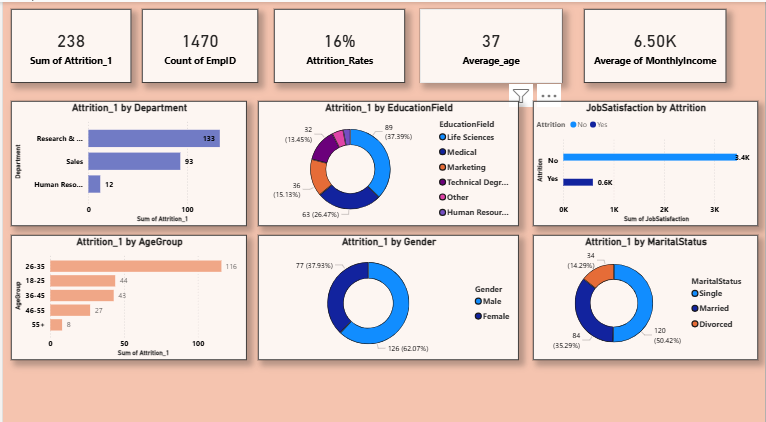

Layout of this report page (visuals, bound fields, positions):
{"tool":"powerbi","page":{"name":"Attrition Dashboard","canvas":[1280,720],"ordinal":0},"visuals":[{"type":"card","fields":{"Values":["Sum(HR_Analytics.Attrition_1)"]},"box":[13.4,11.8,201.6,124.3],"z":0},{"type":"card","fields":{"Values":["Count(HR_Analytics.EmpID)"]},"box":[233.5,11.8,194.9,124.3],"z":1000},{"type":"card","fields":{"Values":["HR_Analytics.Attrition_Rates"]},"box":[455.2,11.8,210,124.3],"z":2000},{"type":"card","fields":{"Values":["HR_Analytics.Average_age"]},"box":[680.3,11.8,210,124.3],"z":3000},{"type":"card","fields":{"Values":["Avg(HR_Analytics.MonthlyIncome)"]},"box":[913.8,11.8,203.3,124.3],"z":4000},{"type":"barChart","title":" Attrition_1 by Department","fields":{"Y":["Sum(HR_Analytics.Attrition_1)"],"Category":["HR_Analytics.Department"]},"box":[13.4,166.3,396.4,210],"z":5000},{"type":"barChart","title":"Attrition_1 by AgeGroup","fields":{"Y":["Sum(HR_Analytics.Attrition_1)"],"Category":["HR_Analytics.AgeGroup"]},"box":[13.4,391.4,396.4,210],"z":6000},{"type":"donutChart","title":" Attrition_1 by EducationField","fields":{"Y":["Sum(HR_Analytics.Attrition_1)"],"Category":["HR_Analytics.EducationField"]},"box":[428.3,166.3,438.4,210],"z":7000},{"type":"donutChart","title":" Attrition_1 by Gender","fields":{"Y":["Sum(HR_Analytics.Attrition_1)"],"Category":["HR_Analytics.Gender"]},"box":[428.3,391.4,438.4,210],"z":8000},{"type":"clusteredBarChart","title":"JobSatisfaction by Attrition","fields":{"Y":["Sum(HR_Analytics.JobSatisfaction)"],"Category":["HR_Analytics.Attrition"],"Series":["HR_Analytics.Attrition"]},"box":[890.3,166.3,378,210],"z":9000},{"type":"donutChart","title":"Attrition_1 by MaritalStatus","fields":{"Category":["HR_Analytics.MaritalStatus"],"Y":["Sum(HR_Analytics.Attrition_1)"]},"box":[890,391,378,210],"z":10000}]}

Visuals, with their boxes in screenshot pixels (x1, y1, x2, y2), scaled from the page's 1280x720 canvas onto the 766x422 screenshot:
card - Sum(HR_Analytics.Attrition_1): (left=8, top=7, right=129, bottom=80)
card - Count(HR_Analytics.EmpID): (left=140, top=7, right=256, bottom=80)
card - HR_Analytics.Attrition_Rates: (left=272, top=7, right=398, bottom=80)
card - HR_Analytics.Average_age: (left=407, top=7, right=533, bottom=80)
card - Avg(HR_Analytics.MonthlyIncome): (left=547, top=7, right=669, bottom=80)
" Attrition_1 by Department" barChart: (left=8, top=97, right=245, bottom=221)
"Attrition_1 by AgeGroup" barChart: (left=8, top=229, right=245, bottom=352)
" Attrition_1 by EducationField" donutChart: (left=256, top=97, right=519, bottom=221)
" Attrition_1 by Gender" donutChart: (left=256, top=229, right=519, bottom=352)
"JobSatisfaction by Attrition" clusteredBarChart: (left=533, top=97, right=759, bottom=221)
"Attrition_1 by MaritalStatus" donutChart: (left=533, top=229, right=759, bottom=352)
